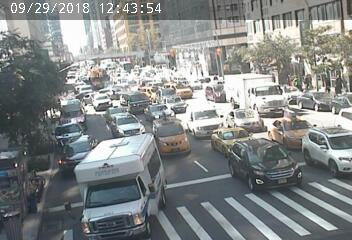car: (85, 148, 154, 217), (231, 140, 295, 181), (305, 127, 351, 164), (154, 118, 194, 156), (246, 82, 290, 113), (180, 105, 221, 132), (65, 140, 97, 169), (61, 96, 92, 125), (298, 89, 331, 112), (213, 130, 246, 148), (126, 93, 158, 109), (111, 112, 140, 129), (272, 121, 303, 136), (232, 108, 257, 126), (207, 79, 226, 99), (59, 127, 86, 139), (147, 105, 176, 116), (172, 81, 195, 93), (161, 96, 186, 106), (91, 94, 106, 104), (106, 107, 124, 115), (154, 89, 172, 96), (113, 86, 127, 92)
